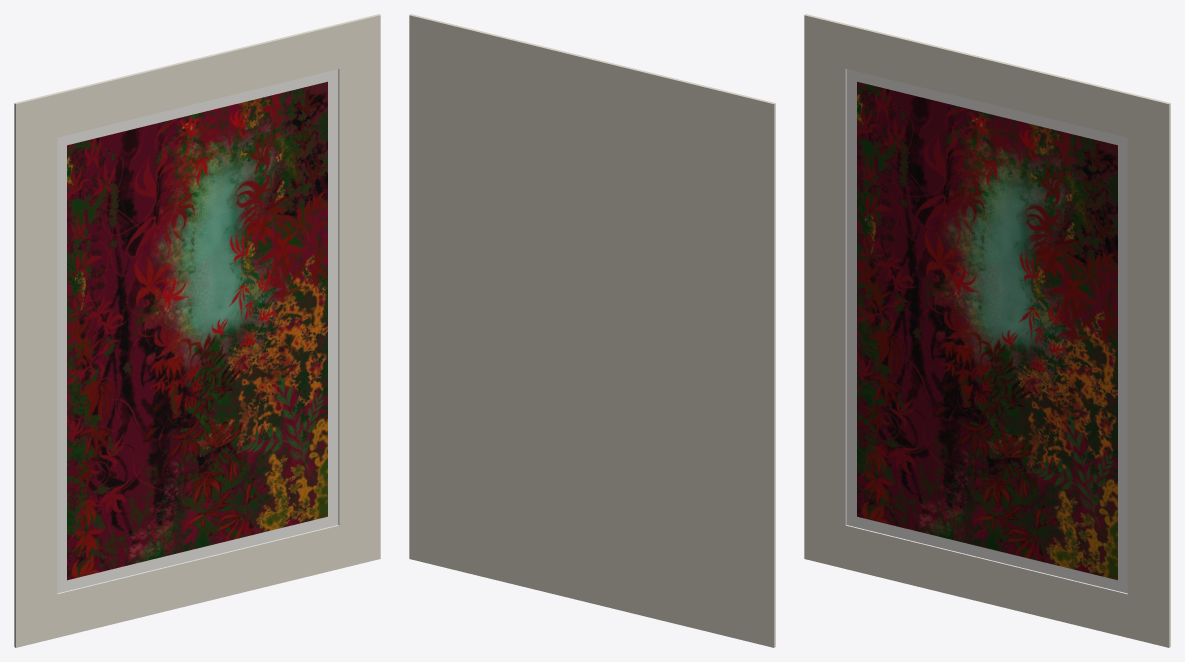
File: os015_moyen_passe-partout.glb
3 views of the same model, side by side, from view 1: azimuth 30°, elevation 25°; view 2: azimuth 150°, elevation 25°; view 3: azimuth 330°, elevation 25° (orthographic).
Parts seen in each view (by area): view 1: os015_moyen_passe-partout; view 2: os015_moyen_passe-partout; view 3: os015_moyen_passe-partout.
Part boxes in pixels (left/top/right/bottom): os015_moyen_passe-partout: left=14, top=14, right=380, bottom=647; os015_moyen_passe-partout: left=409, top=14, right=775, bottom=647; os015_moyen_passe-partout: left=804, top=14, right=1170, bottom=647.
Bounding box in the file's own units: 0.7024 × 1 × 0.0055.
Materials: 4 (1 with a texture image).
